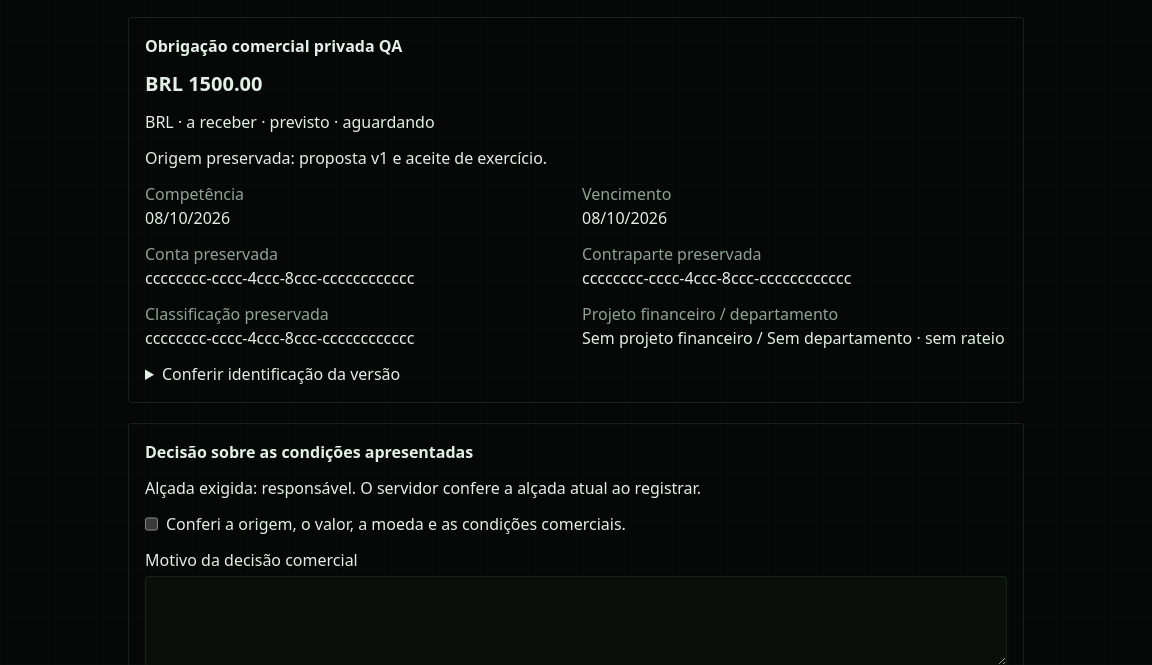
decisão comercial com API simulada › mostra snapshot e decisão exige motivo e conferência, usando rota própria
Expected: the heading "Obrigação comercial privada QA" is shown, [145,35,402,57]
Click the checkbox labelled "Conferi a origem, o valor, a moeda e as condições comerciais.": [152, 524] box [145,512,158,536]
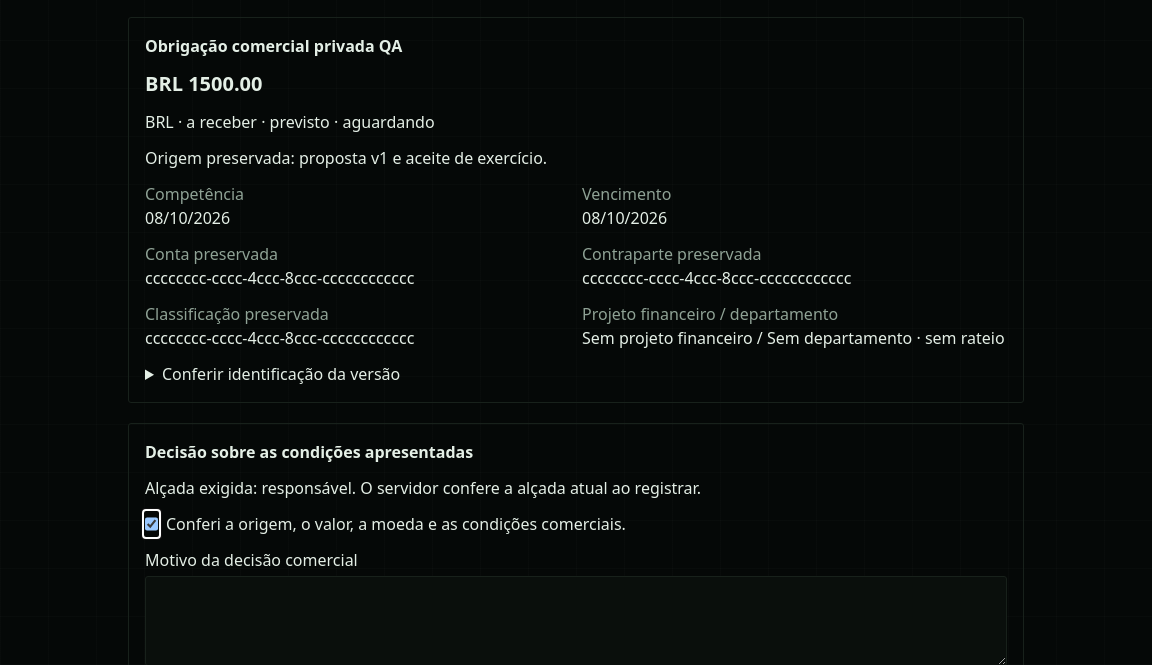
In the text box labelled "Motivo da decisão comercial": [576, 621] box [145,576,1007,664], type "Motivo privado sintético QA"
(page scrolled)
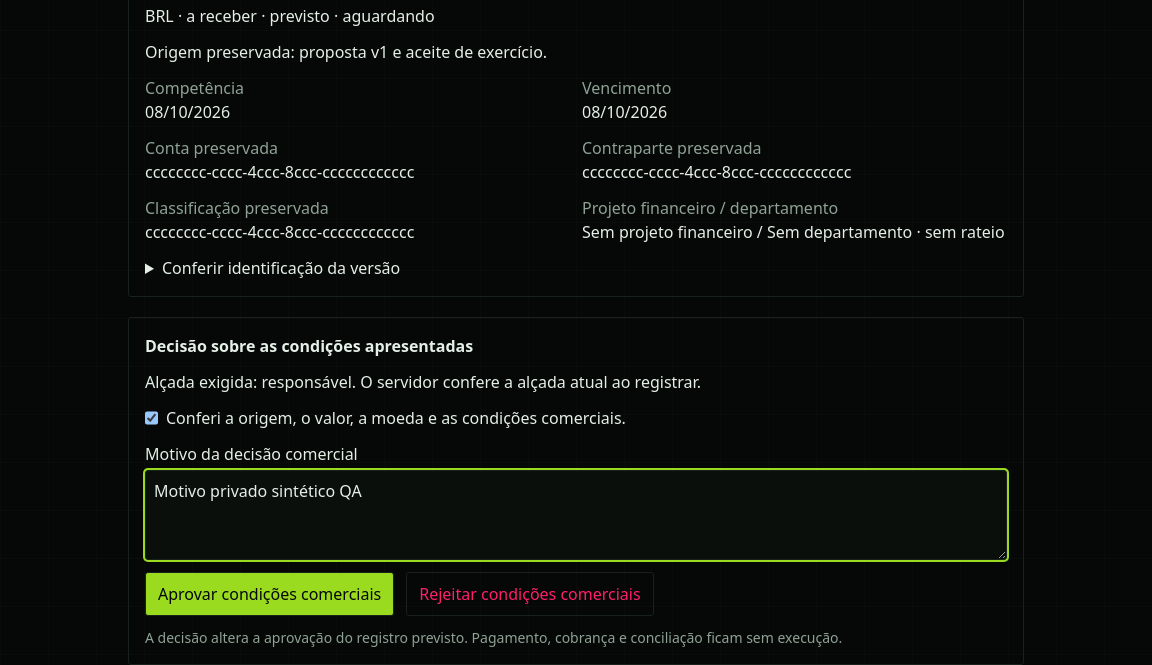
Click the button "Aprovar condições comerciais": [270, 594] box [145,572,394,616]
(page scrolled)
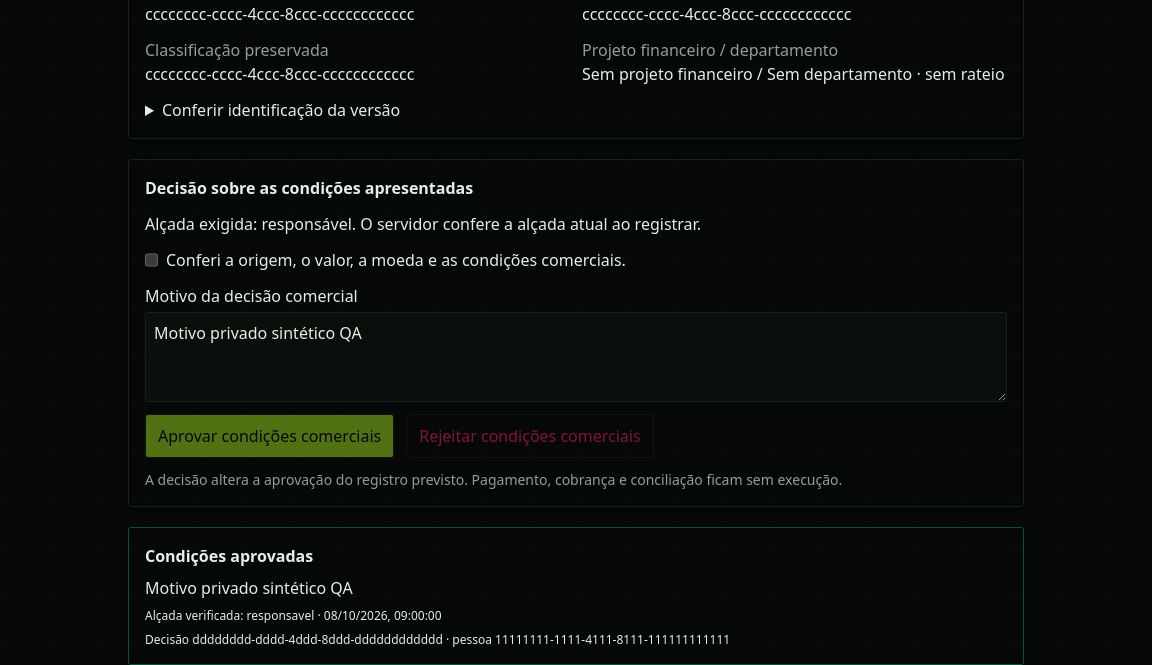
Now the heading "Condições aprovadas" is shown, box [145,545,313,567]
